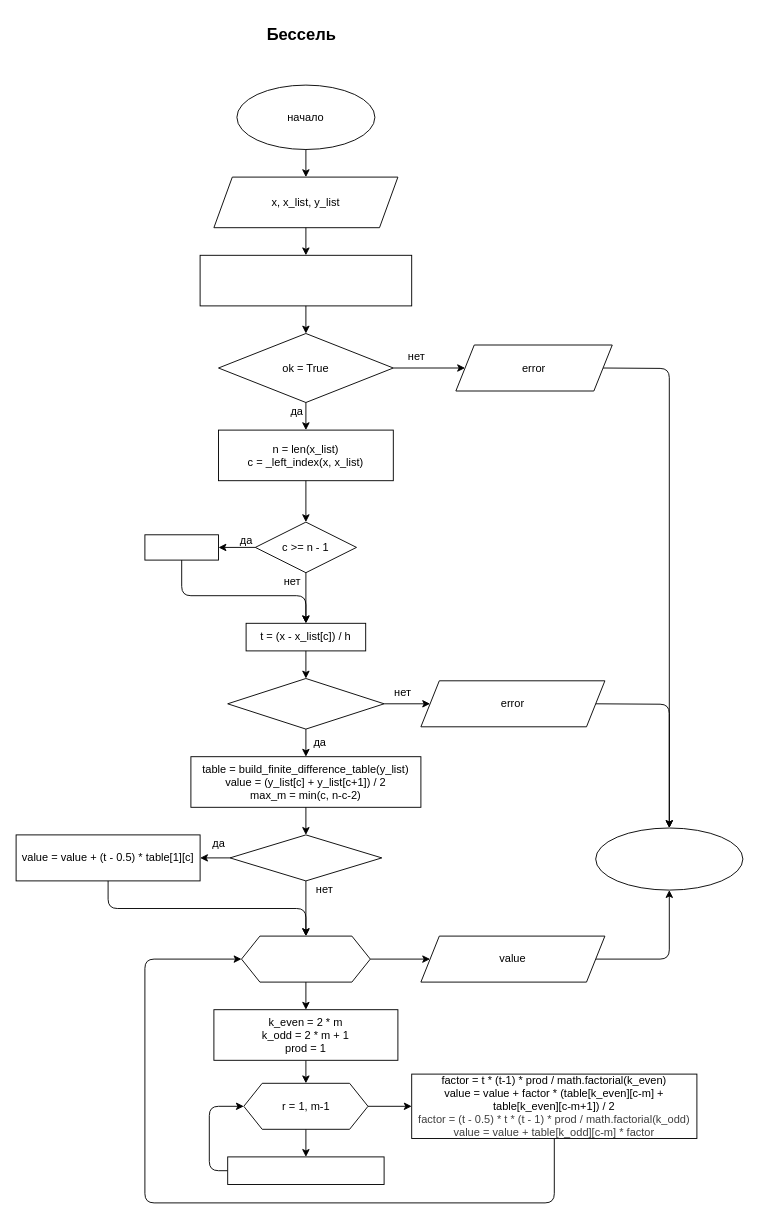
The diagram is 759 pixels wide and 1226 high, and some of its shapes have lost their labels. The shapes that lost their labels are listed below. From the top down, each one's centre as x and y in pixels, then its label:
At (305,280): "ok, h = check_equidistant(x_list)".
At (181,547): "c = n - 2".
At (305,703): "0.25 <= t <= 0.75".
At (305,857): "0 <= c && c < n-1".
At (669,858): "конец".
At (305,958): "m = 1, max_m".
At (305,1170): "prod = prod * (t + r) * (t - r - 1)".
